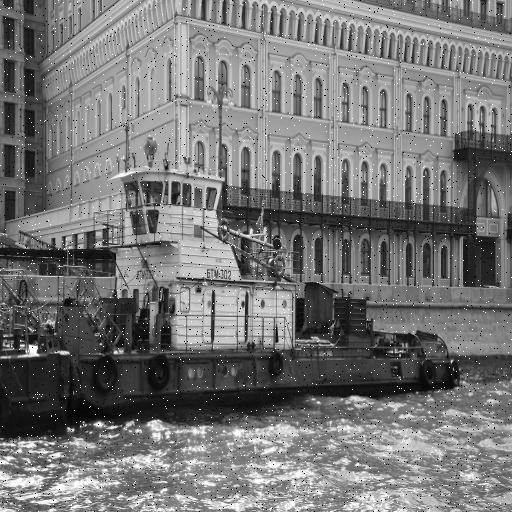tugboat: (3, 124, 465, 430)
